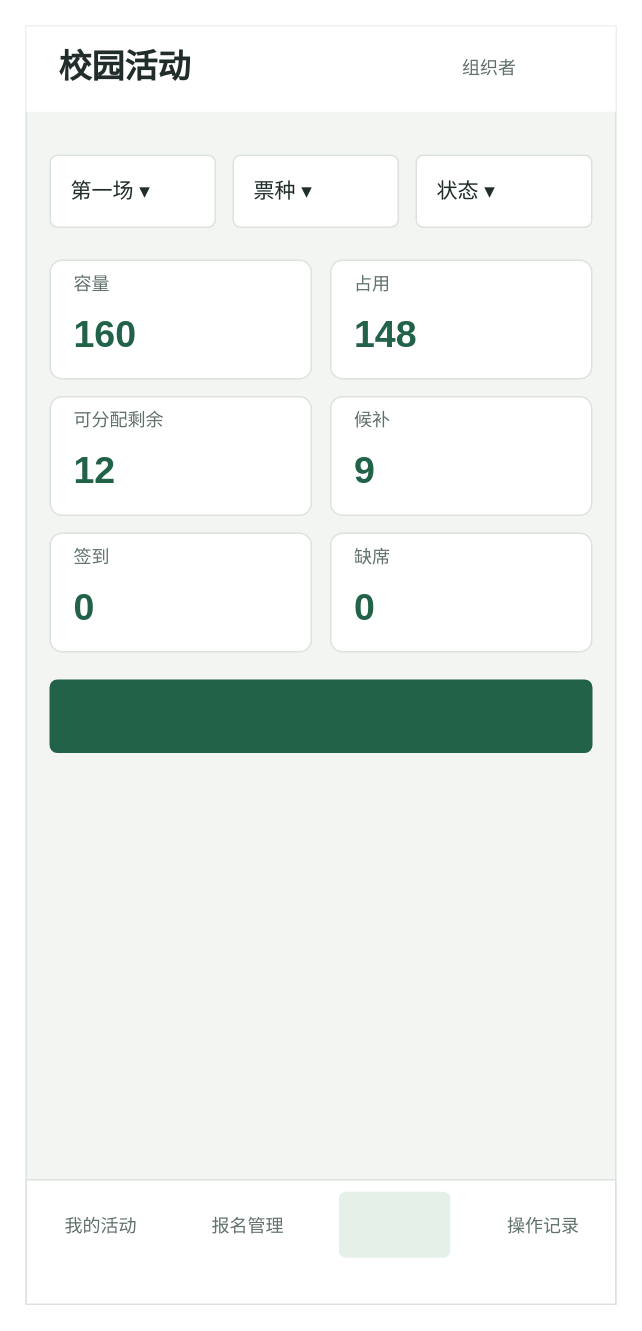
The diagram is 642 pixels wide and 1331 high, and some of its shapes have lost their labels. The shapes that lost their labels are listed below. From the top down, each one's centre as x and y in pixels, then its label:
At point 320,715: "导出 CSV 名单".
At point 394,1224: "统计导出".
